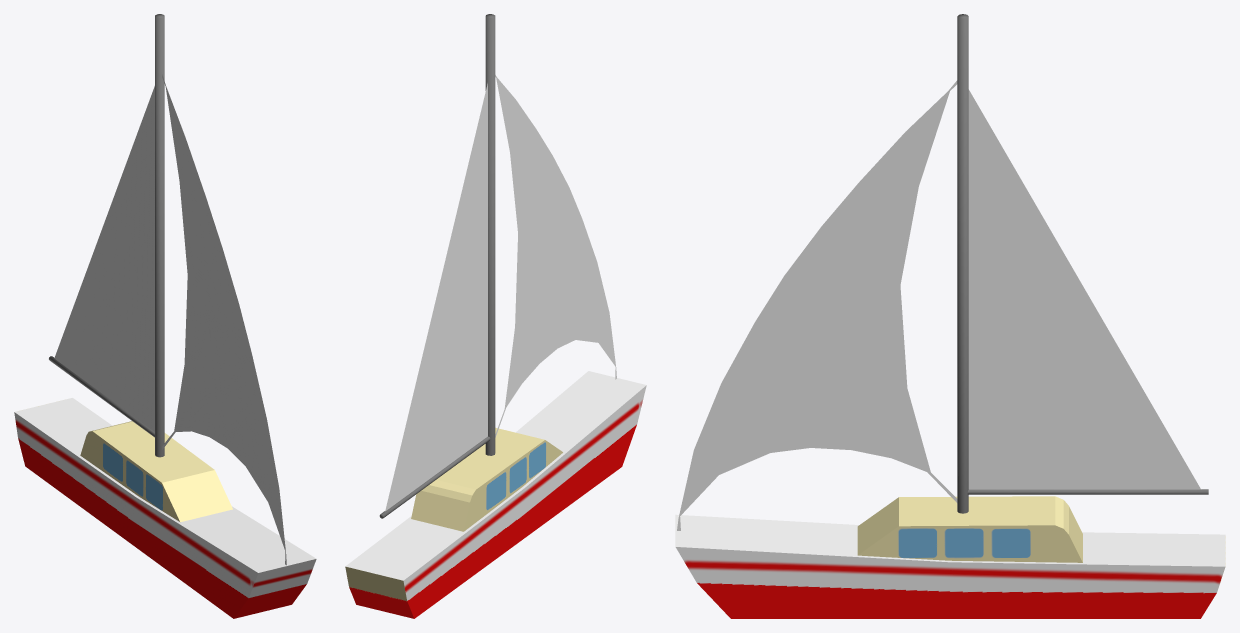
File: SailBoat.fbx
3 views of the same model, side by side, from view 1: azimuth 30°, elevation 25°; view 2: azimuth 150°, elevation 25°; view 3: azimuth 270°, elevation 25° (orthographic). The views are drawn at different scales.
Parts seen in each view (by area): view 1: SailBoat; view 2: SailBoat; view 3: SailBoat.
Part boxes in pixels (x1,y1,x2,y2): SailBoat: (14,14,316,618); SailBoat: (345,14,646,618); SailBoat: (675,14,1225,618).
Bounding box in the file's own units: 4000 × 34065 × 28955.
